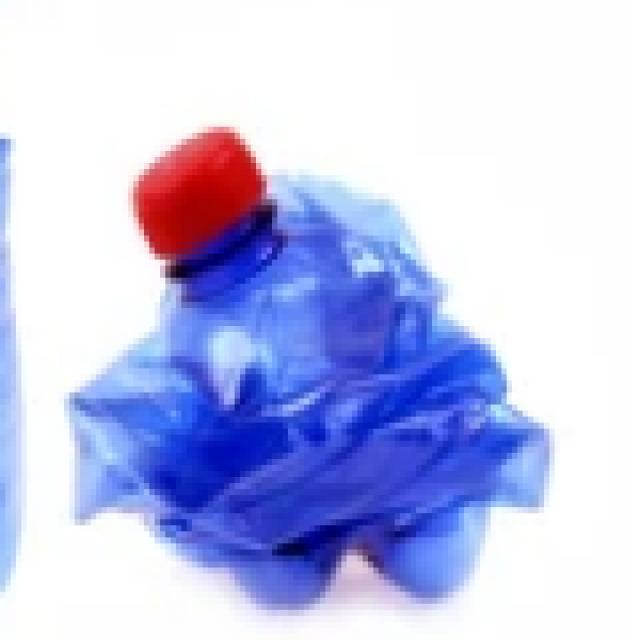Botella de plastico: (71, 128, 548, 606)
